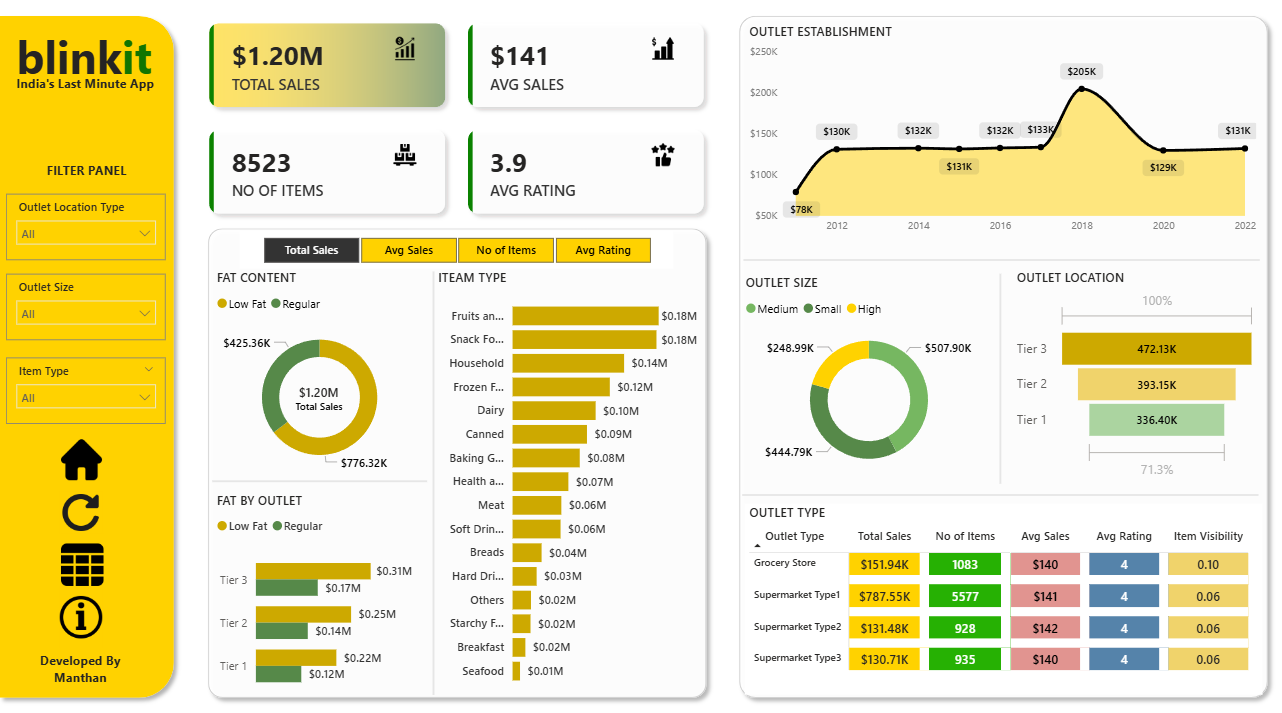

The page's visual inventory and layout, read from the dashboard file:
{"tool":"powerbi","page":{"name":"Blinkit Analysis","canvas":[1400,800],"ordinal":0},"visuals":[{"type":"shape","box":[0,24.1,205.1,749.3],"z":0},{"type":"textbox","box":[8,38.9,183.6,81.8],"z":1000},{"type":"textbox","box":[9.4,91.2,183.6,29.5],"z":2000},{"type":"cardVisual","fields":{"Data":["BlinkIT Grocery Data.Total Sales","BlinkIT Grocery Data.Avg Sales","BlinkIT Grocery Data.No of Items","BlinkIT Grocery Data.Avg Rating"]},"box":[205.1,12.1,588.5,262.7],"z":3000},{"type":"shape","box":[223.9,252,552.3,521.5],"z":4000},{"type":"donutChart","title":"FAT CONTENT","fields":{"Y":["BlinkIT Grocery Data.Total Sales"],"Category":["BlinkIT Grocery Data.Item Fat Content"]},"box":[237.3,304.3,230.6,230.6],"z":5000},{"type":"slicer","fields":{"Values":["Matrics.Matrics"]},"box":[266.8,264.1,465.1,40.2],"z":6000},{"type":"cardVisual","fields":{"Data":["BlinkIT Grocery Data.Total Sales"]},"box":[288.2,399.5,127.3,87.1],"z":7000},{"type":"clusteredBarChart","title":"FAT BY OUTLET","fields":{"Y":["BlinkIT Grocery Data.Total Sales"],"Category":["BlinkIT Grocery Data.Outlet Location Type"],"Series":["BlinkIT Grocery Data.Item Fat Content"]},"box":[237.3,542.9,219.8,230.6],"z":8000},{"type":"shape","box":[237.3,521.5,230.6,21.4],"z":9000},{"type":"shape","box":[467.8,307,13.4,454.4],"z":10000},{"type":"barChart","title":"ITEAM TYPE","fields":{"Y":["BlinkIT Grocery Data.Total Sales"],"Category":["BlinkIT Grocery Data.Item Type"]},"box":[474.5,304.3,288.2,457.1],"z":11000},{"type":"shape","box":[793.6,24.1,584.5,749.3],"z":12000},{"type":"lineChart","title":"OUTLET ESTABLISHMENT","fields":{"Y":["BlinkIT Grocery Data.Total Sales"],"Category":["BlinkIT Grocery Data.Outlet Establishment Year"]},"box":[808.3,40.2,553.6,234.6],"z":13000},{"type":"shape","box":[807,280.2,553.6,29.5],"z":14000},{"type":"donutChart","title":"OUTLET SIZE","fields":{"Y":["BlinkIT Grocery Data.Total Sales"],"Category":["BlinkIT Grocery Data.Outlet Size"]},"box":[804.3,309.7,274.8,225.2],"z":15000},{"type":"shape","box":[1079.1,309.7,6.7,225.2],"z":16000},{"type":"funnel","title":"OUTLET LOCATION","fields":{"Y":["Sum(BlinkIT Grocery Data.Sales)"],"Category":["BlinkIT Grocery Data.Outlet Location Type"]},"box":[1095.2,304.3,266.8,230.6],"z":17000},{"type":"shape","box":[805.6,532.2,553.6,29.5],"z":18000},{"type":"pivotTable","title":"OUTLET TYPE","fields":{"Values":["BlinkIT Grocery Data.Total Sales","BlinkIT Grocery Data.No of Items","BlinkIT Grocery Data.Avg Sales","BlinkIT Grocery Data.Avg Rating","Avg(BlinkIT Grocery Data.Item Visibility)"],"Rows":["BlinkIT Grocery Data.Outlet Type"]},"box":[808.3,556.3,555,205.1],"z":19000},{"type":"slicer","fields":{"Values":["BlinkIT Grocery Data.Outlet Location Type"]},"box":[16.1,223.9,171.6,71],"z":20000},{"type":"slicer","fields":{"Values":["BlinkIT Grocery Data.Outlet Size"]},"box":[16.1,309.7,171.6,71],"z":21000},{"type":"slicer","fields":{"Values":["BlinkIT Grocery Data.Item Type"]},"box":[16.1,399.5,171.6,71],"z":22000},{"type":"textbox","box":[10.7,185,183.6,29.5],"z":23000},{"type":"actionButton","box":[75.1,475.9,44.2,67],"z":24000},{"type":"actionButton","box":[73.7,542.9,45.6,45.6],"z":25000},{"type":"actionButton","box":[75.1,588.5,45.6,65.7],"z":26000},{"type":"actionButton","box":[73.7,644.8,45.6,65.7],"z":27000},{"type":"textbox","box":[4,710.5,183.6,50.9],"z":28000}]}

Visuals, with their boxes in screenshot pixels (x1, y1, x2, y2), scaled from the page's 1400x800 canvas onto the 1282x713 screenshot:
shape: (x1=0, y1=21, x2=188, y2=689)
textbox: (x1=7, y1=35, x2=175, y2=108)
textbox: (x1=9, y1=81, x2=177, y2=108)
cardVisual - BlinkIT Grocery Data.Total Sales x BlinkIT Grocery Data.Avg Sales: (x1=188, y1=11, x2=727, y2=245)
shape: (x1=205, y1=225, x2=711, y2=689)
"FAT CONTENT" donutChart: (x1=217, y1=271, x2=428, y2=477)
slicer - Matrics.Matrics: (x1=244, y1=235, x2=670, y2=271)
cardVisual - BlinkIT Grocery Data.Total Sales: (x1=264, y1=356, x2=380, y2=434)
"FAT BY OUTLET" clusteredBarChart: (x1=217, y1=484, x2=419, y2=689)
shape: (x1=217, y1=465, x2=428, y2=484)
shape: (x1=428, y1=274, x2=441, y2=679)
"ITEAM TYPE" barChart: (x1=435, y1=271, x2=698, y2=679)
shape: (x1=727, y1=21, x2=1262, y2=689)
"OUTLET ESTABLISHMENT" lineChart: (x1=740, y1=36, x2=1247, y2=245)
shape: (x1=739, y1=250, x2=1246, y2=276)
"OUTLET SIZE" donutChart: (x1=737, y1=276, x2=988, y2=477)
shape: (x1=988, y1=276, x2=994, y2=477)
"OUTLET LOCATION" funnel: (x1=1003, y1=271, x2=1247, y2=477)
shape: (x1=738, y1=474, x2=1245, y2=501)
"OUTLET TYPE" pivotTable: (x1=740, y1=496, x2=1248, y2=679)
slicer - BlinkIT Grocery Data.Outlet Location Type: (x1=15, y1=200, x2=172, y2=263)
slicer - BlinkIT Grocery Data.Outlet Size: (x1=15, y1=276, x2=172, y2=339)
slicer - BlinkIT Grocery Data.Item Type: (x1=15, y1=356, x2=172, y2=419)
textbox: (x1=10, y1=165, x2=178, y2=191)
actionButton: (x1=69, y1=424, x2=109, y2=484)
actionButton: (x1=67, y1=484, x2=109, y2=525)
actionButton: (x1=69, y1=525, x2=111, y2=583)
actionButton: (x1=67, y1=575, x2=109, y2=633)
textbox: (x1=4, y1=633, x2=172, y2=679)
